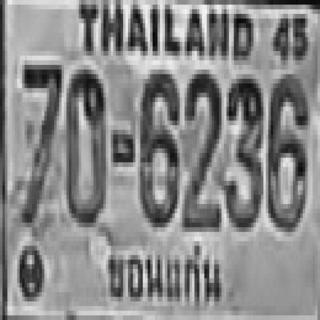N00: (64, 65, 106, 223)
N02: (182, 70, 219, 227)
N03: (222, 74, 261, 227)
N06: (266, 74, 308, 227), (138, 67, 177, 225)
N07: (20, 60, 61, 223)
P18: (100, 233, 228, 313)
